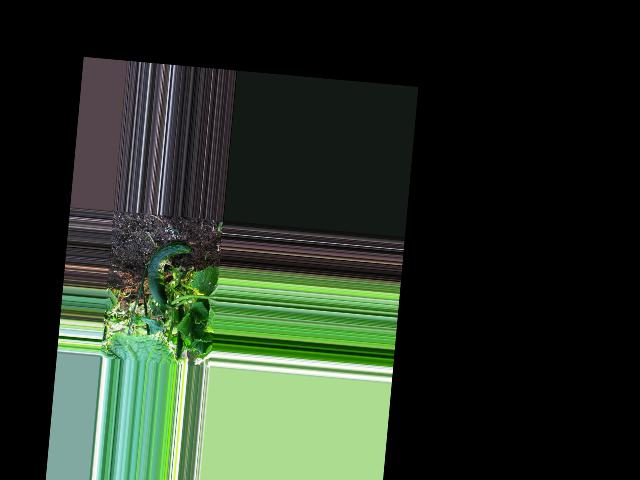cucumber: (144, 239, 191, 307)
